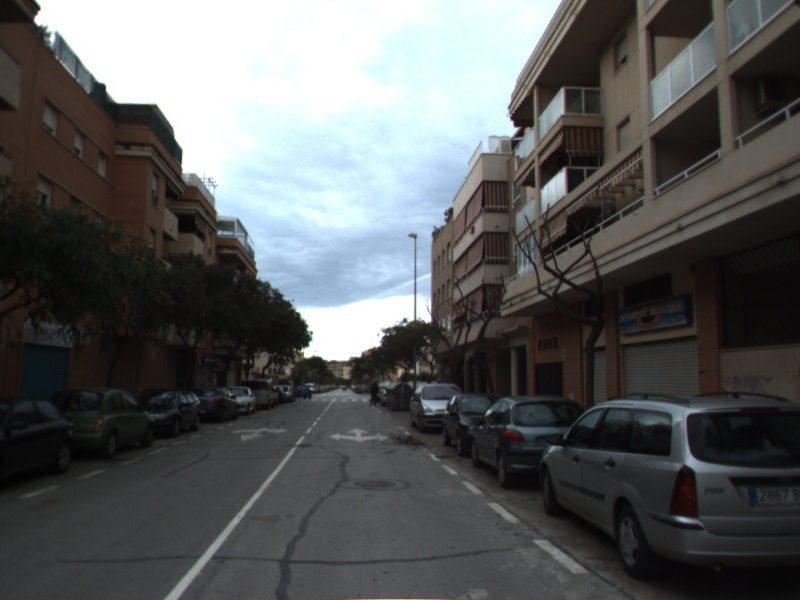STRAIGHT_LEFT_RIGHT: (328, 425, 391, 444)
